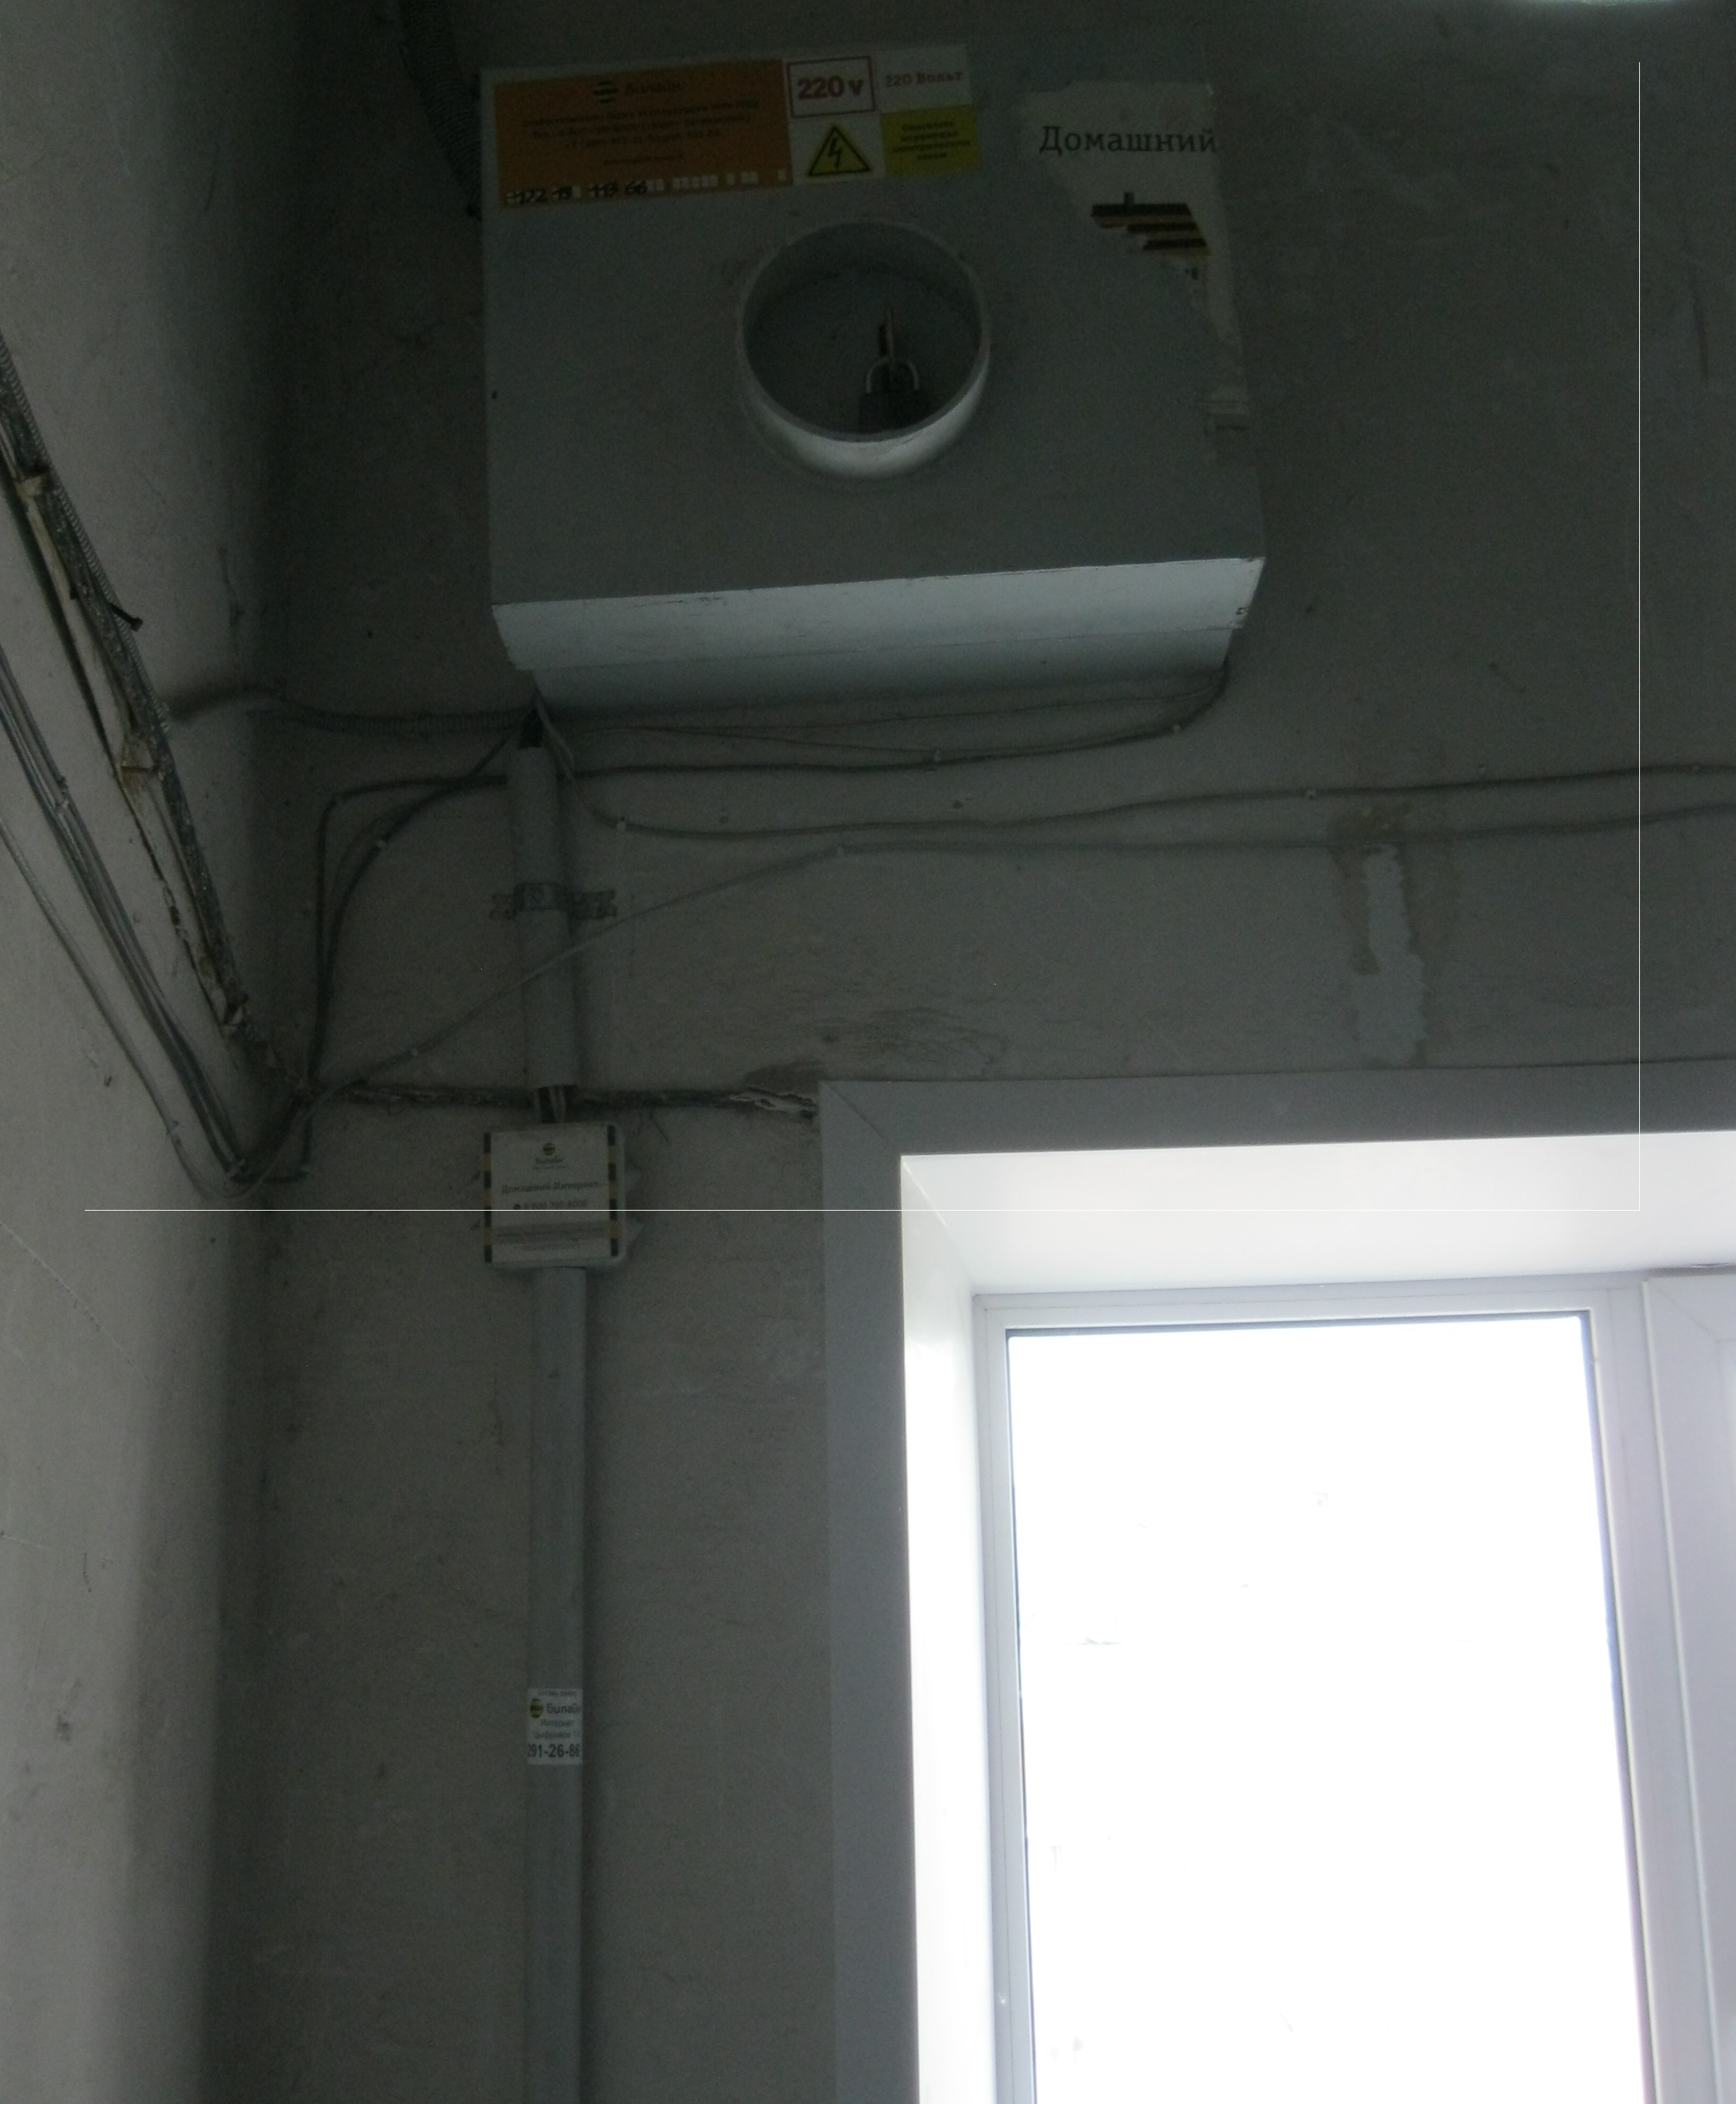shta-3: (465, 26, 1271, 725)
